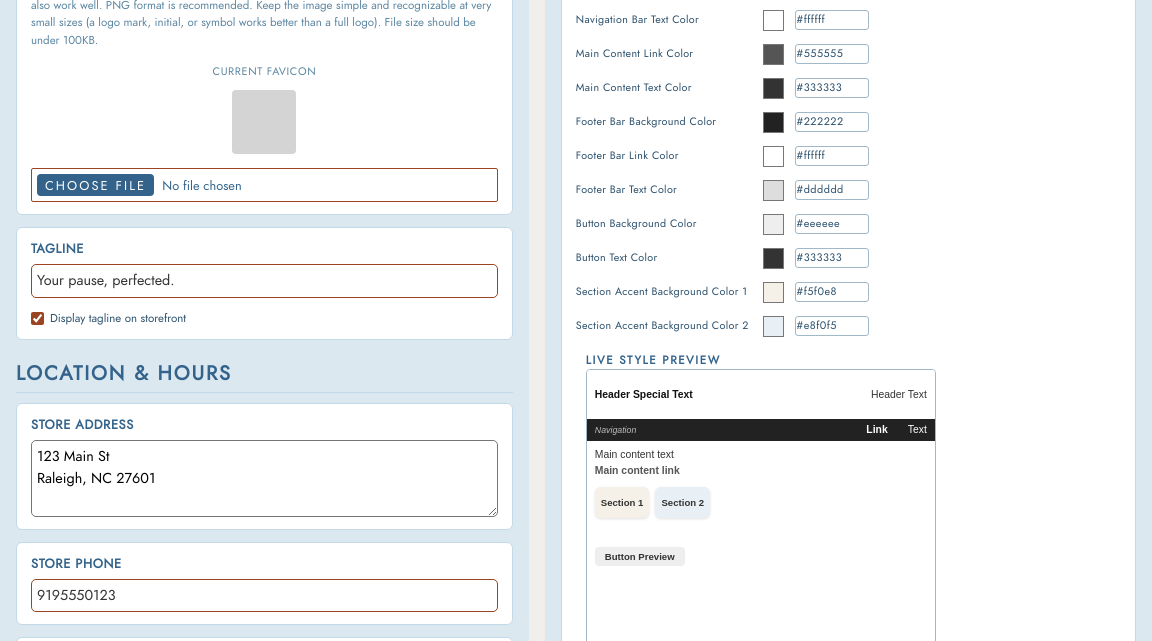
Test: AdminStorefrontSettings › updates tagline and shows unsaved changes
(page scrolled)
Step 1. Type "Fresh coffee daily." into the field showing "Your pause, perfected." → {"x": 264, "y": 281}, box [31,264,498,298]
(page scrolled)
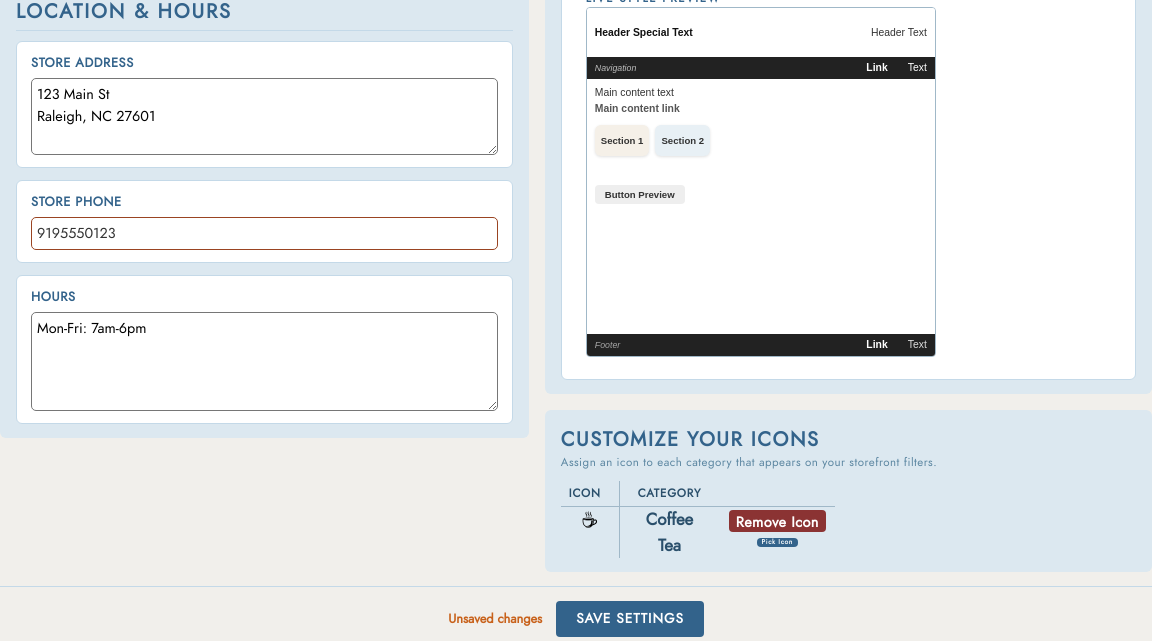
Expected: the text "Unsaved changes" is shown, [448,610,542,628]
